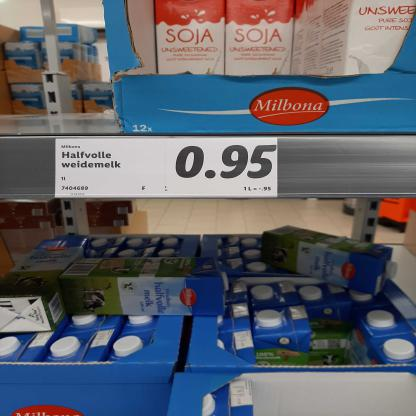prtg: (56, 139, 278, 199)
